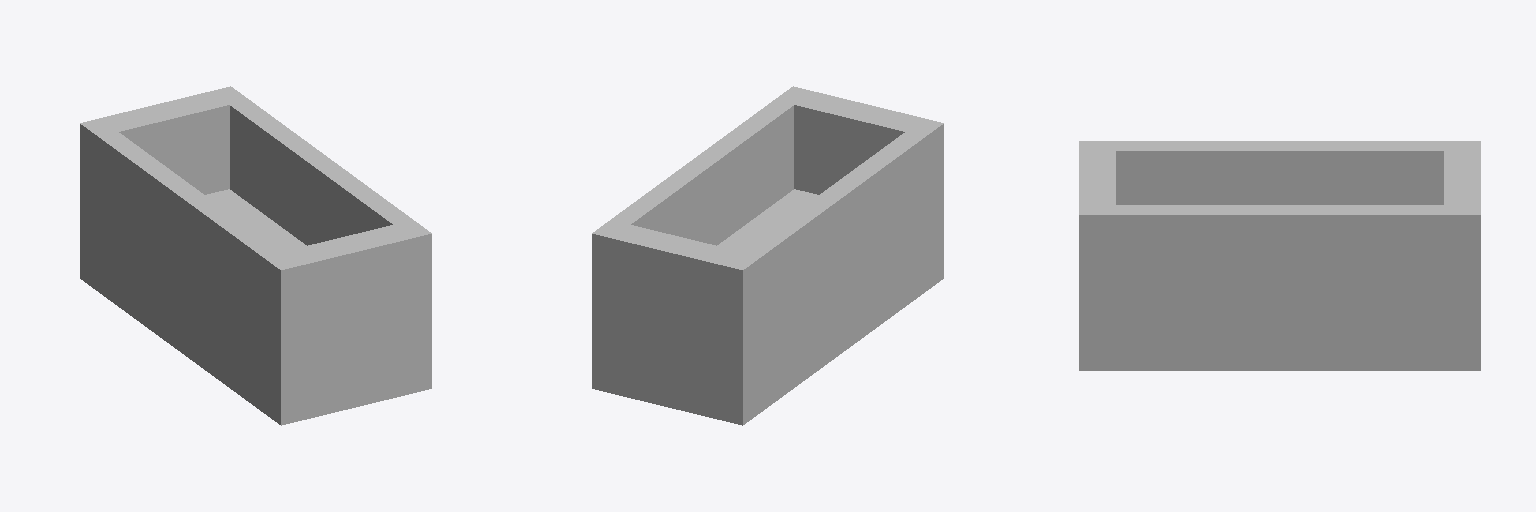
The model's file is LeverBase.obj.
3 views of the same model, side by side, from view 1: azimuth 30°, elevation 25°; view 2: azimuth 150°, elevation 25°; view 3: azimuth 270°, elevation 25° (orthographic).
Visible parts, largest first — view 1: Lever_Base; view 2: Lever_Base; view 3: Lever_Base.
Boxes of the visible parts, x1=… form: Lever_Base: x1=80, y1=86, x2=431, y2=425; Lever_Base: x1=592, y1=86, x2=943, y2=425; Lever_Base: x1=1079, y1=141, x2=1480, y2=370.
Bounding box in the file's own units: 0.1535 × 0.1505 × 0.3536.